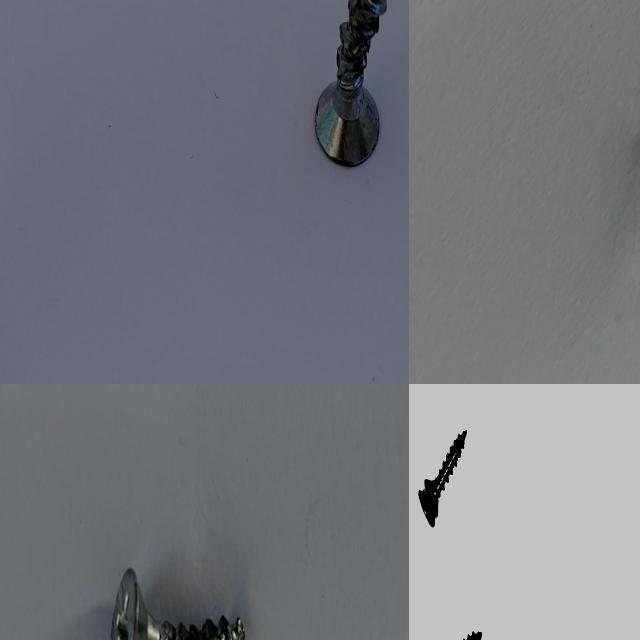Screw: (315, 0, 387, 165), (110, 568, 245, 640), (418, 429, 466, 526)
